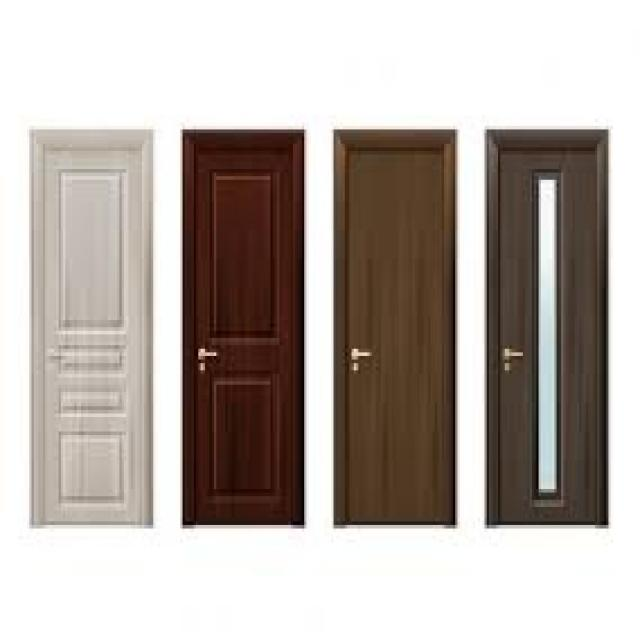door: (183, 128, 304, 526)
